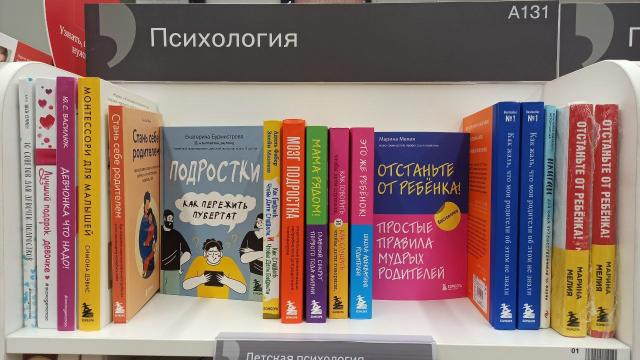book-s-spine: (564, 104, 593, 336), (591, 104, 618, 337), (518, 102, 544, 330), (496, 102, 520, 331), (36, 79, 58, 328), (79, 78, 100, 330), (282, 120, 305, 323), (351, 128, 374, 319), (57, 77, 74, 331), (19, 79, 36, 327), (307, 126, 327, 323), (109, 106, 127, 323), (329, 128, 349, 319), (540, 106, 556, 329), (263, 121, 280, 319)
